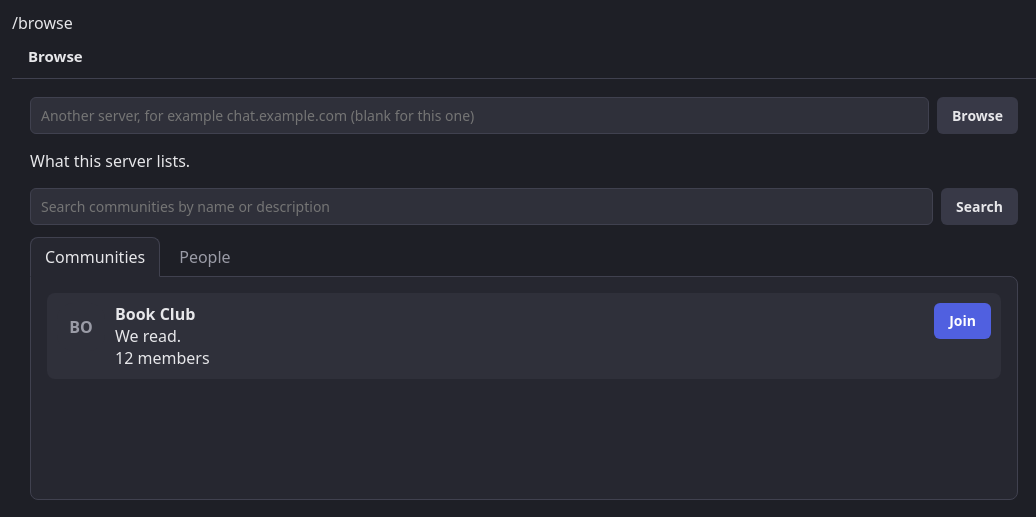
Test: Browse: this server's communities › says why a join failed, on that row
Click the button with aria-label "Join Book Club". click: [963, 321]
box: [934, 303, 991, 338]
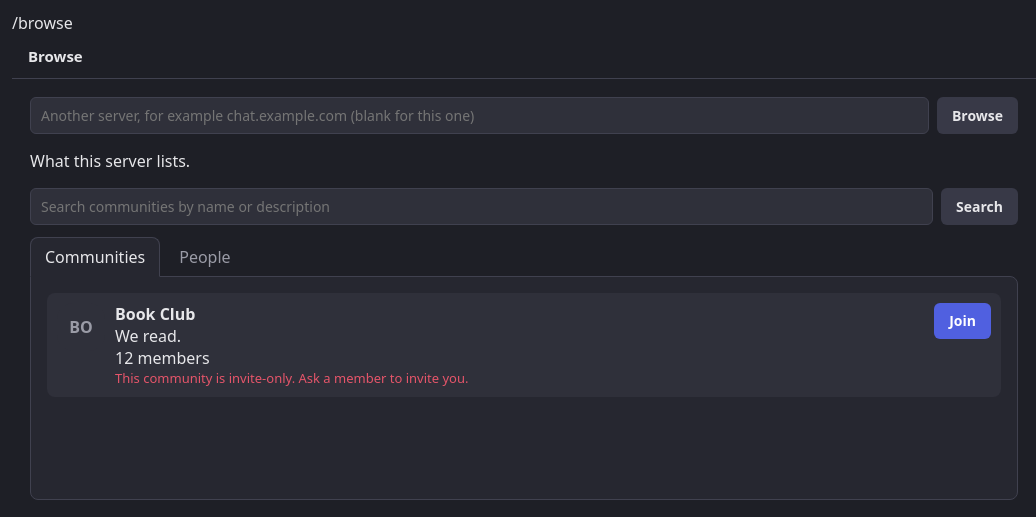
Expected: the text with test id "where" reads "/browse", [12, 12, 73, 34]
Expected: the message shows "invite-only", [115, 369, 468, 387]
